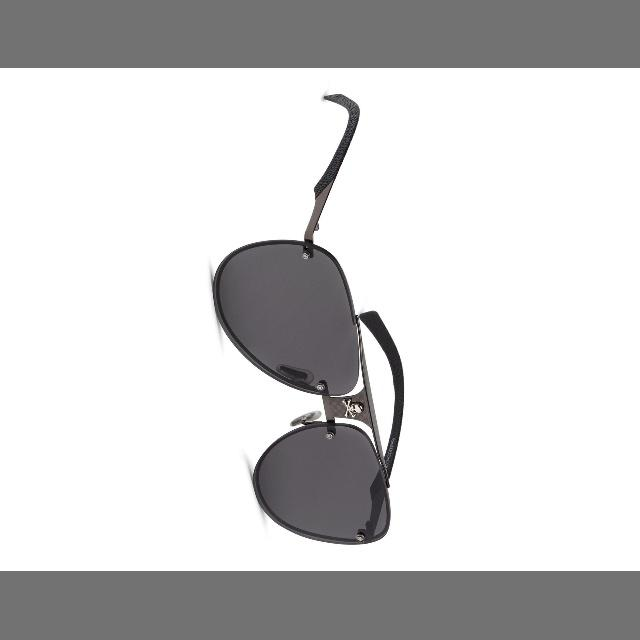Sunglasses: (172, 78, 436, 566)
